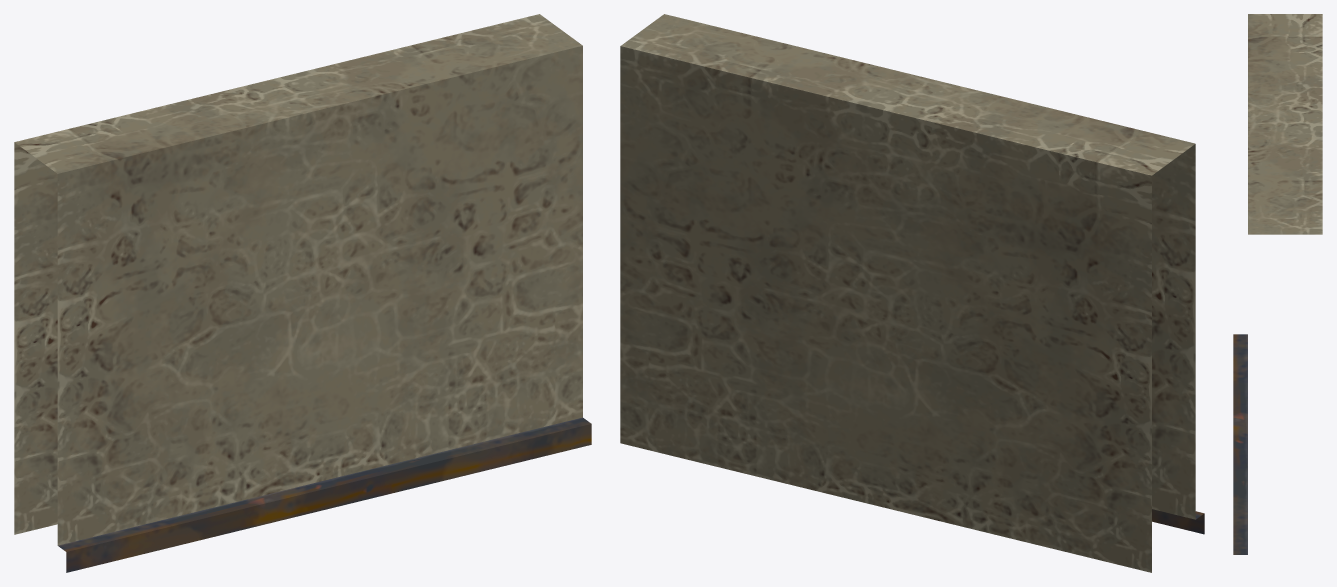
File: BrickW_5X7_V2.fbx
3 renders of one model, left to right at view 1: azimuth 30°, elevation 25°; view 2: azimuth 150°, elevation 25°; view 3: azimuth 270°, elevation 25°, orthographic. The views are drawn at different scales.
Parts seen in each view (by area): view 1: BrickW_5X7_V2; view 2: BrickW_5X7_V2; view 3: BrickW_5X7_V2.
Boxes of the visible parts, <box> form: BrickW_5X7_V2: <box>14,14,591,572</box>; BrickW_5X7_V2: <box>620,14,1204,572</box>; BrickW_5X7_V2: <box>1233,14,1322,554</box>.
Bounding box in the file's own units: 7000 × 5000 × 1200.
